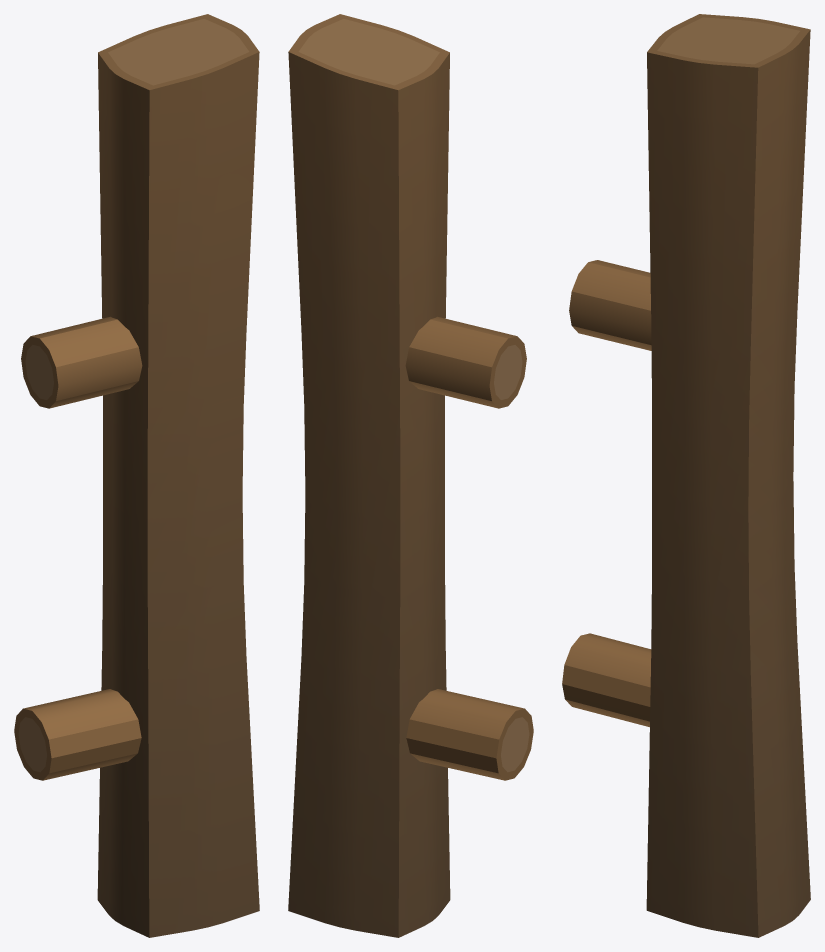
File: Fence_04.fbx
The picture shows the model from 3 angles, left to right: view 1: azimuth 30°, elevation 25°; view 2: azimuth 150°, elevation 25°; view 3: azimuth 330°, elevation 25°; orthographic projection.
Parts seen in each view (by area): view 1: Fence_04_LOD0; view 2: Fence_04_LOD0; view 3: Fence_04_LOD0.
Part boxes in pixels (x1,y1,x2,y2): Fence_04_LOD0: [14, 14, 259, 937]; Fence_04_LOD0: [288, 14, 533, 937]; Fence_04_LOD0: [562, 14, 810, 937].
Size of what is drawn, in the model's own units: 0.253 by 0.9907 by 0.124.
